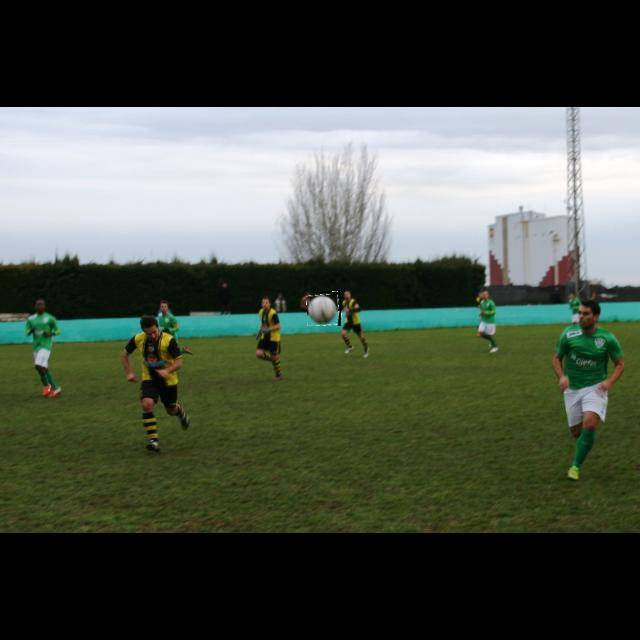Football: (307, 292, 341, 326)
